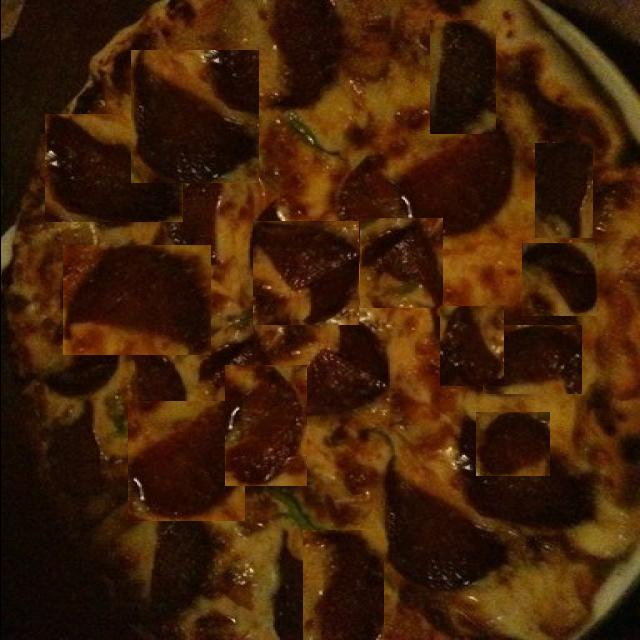pepperoni: (130, 50, 258, 183), (62, 245, 210, 355), (44, 115, 182, 222), (127, 401, 244, 521), (290, 329, 392, 438), (252, 221, 358, 325), (224, 365, 306, 486), (302, 530, 383, 640), (285, 0, 367, 108), (340, 135, 436, 216), (429, 20, 495, 134), (359, 218, 442, 308), (414, 375, 476, 487), (482, 326, 581, 396), (455, 176, 508, 287), (398, 498, 498, 555), (521, 244, 596, 318), (534, 143, 592, 238), (439, 306, 503, 386), (475, 412, 549, 476)
pizza: (0, 0, 639, 640)
